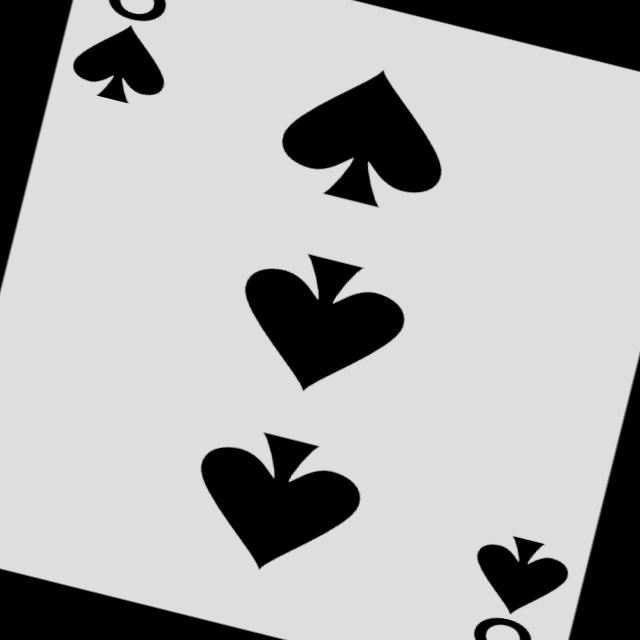Spade: (178, 419, 370, 589), (222, 240, 414, 410), (270, 51, 462, 220), (464, 528, 573, 625), (66, 15, 176, 110)
